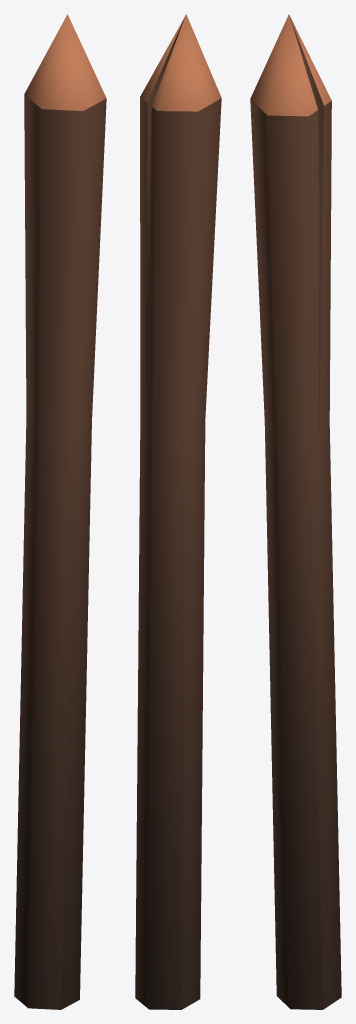
Rendered from Fence_3C_Part_2.fbx.
3 views of the same model, side by side, from view 1: azimuth 90°, elevation 25°; view 2: azimuth 150°, elevation 25°; view 3: azimuth 270°, elevation 25° (orthographic).
Visible parts, largest first — view 1: Fence_3C_Part_2; view 2: Fence_3C_Part_2; view 3: Fence_3C_Part_2.
Part boxes in pixels (x1,y1,x2,y2): Fence_3C_Part_2: [14, 14, 106, 1009]; Fence_3C_Part_2: [135, 14, 221, 1009]; Fence_3C_Part_2: [250, 14, 341, 1009].
Size of the model in its own units: 8.8 by 128 by 10.85.
